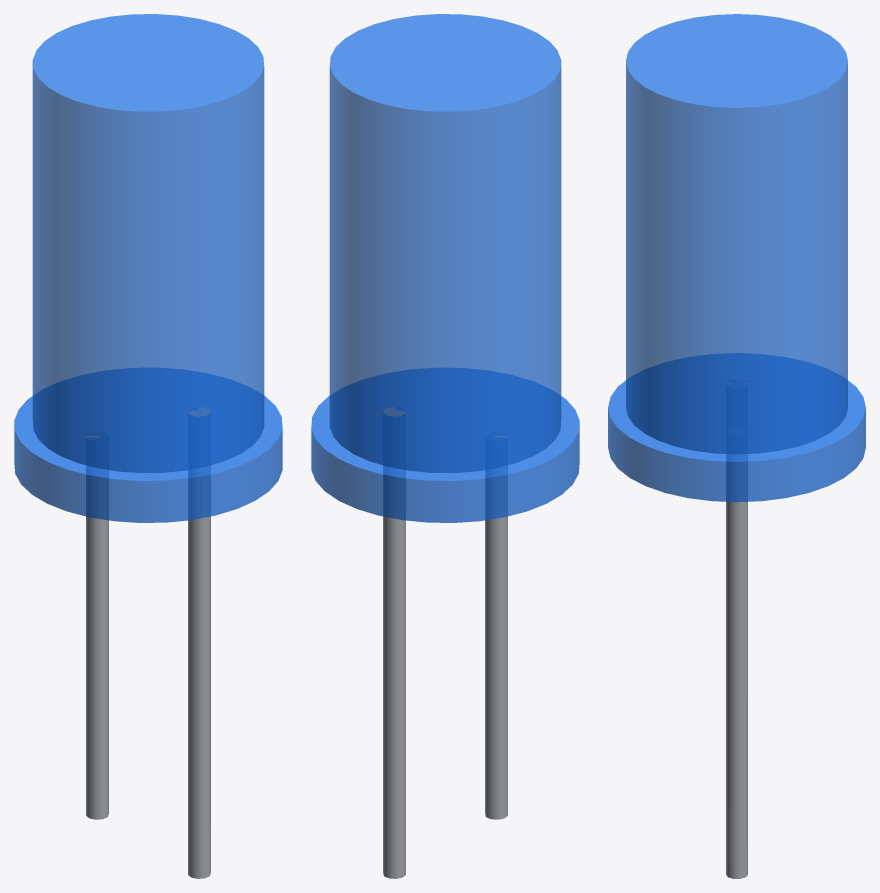
File: led-5mm-blue.glb
3 views of the same model, side by side, from view 1: azimuth 30°, elevation 25°; view 2: azimuth 150°, elevation 25°; view 3: azimuth 270°, elevation 25° (orthographic). The views are drawn at different scales.
Visible parts, largest first — view 1: led_body, led_flange, anode_lead, cathode_lead; view 2: led_body, led_flange, anode_lead, cathode_lead; view 3: led_body, led_flange, anode_lead.
Boxes of the visible parts, x1,y1,x2,y2 form: led_body: [32, 14, 264, 473]; led_flange: [14, 368, 282, 522]; anode_lead: [188, 407, 210, 878]; cathode_lead: [86, 435, 108, 819]; led_body: [329, 14, 561, 473]; led_flange: [311, 368, 579, 522]; anode_lead: [383, 407, 405, 878]; cathode_lead: [485, 435, 507, 819]; led_body: [626, 14, 847, 454]; led_flange: [608, 353, 865, 502]; anode_lead: [726, 454, 747, 878].
Bounding box in the file's own units: 0.0058 × 0.0196 × 0.0058.
